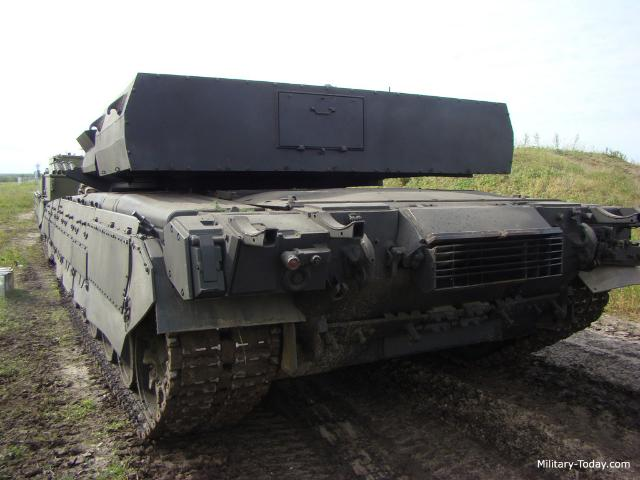tank: (46, 78, 614, 394)
